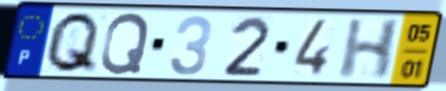2: (220, 14, 271, 79)
3: (169, 13, 214, 76)
4: (291, 17, 332, 79)
H: (335, 17, 404, 81)
Q: (42, 10, 104, 75), (98, 11, 153, 76)
